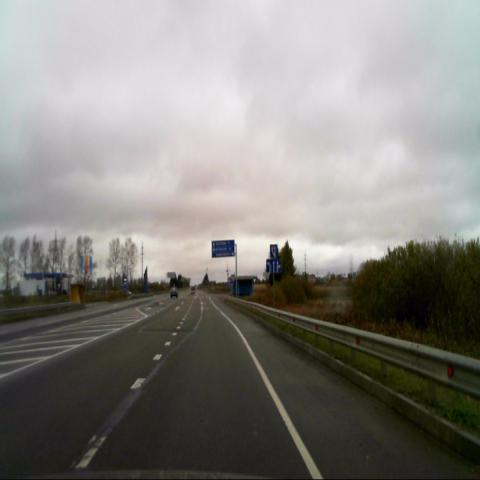5_15_1: (266, 258, 282, 274)
